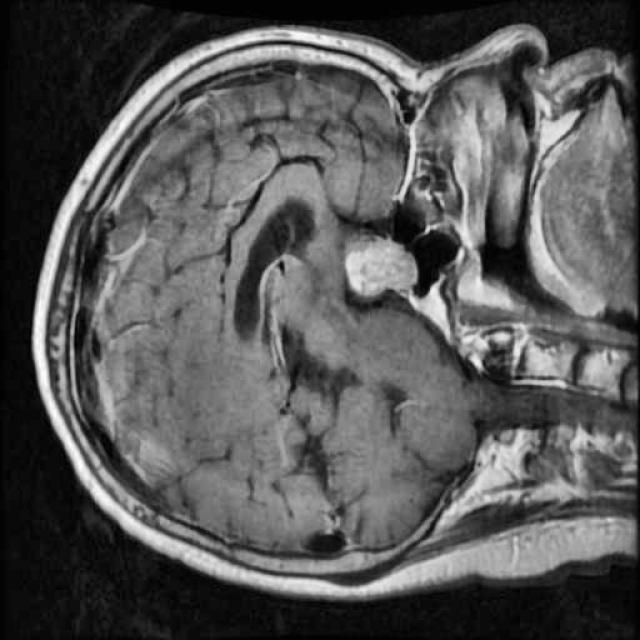Tumor: (336, 226, 428, 309)
